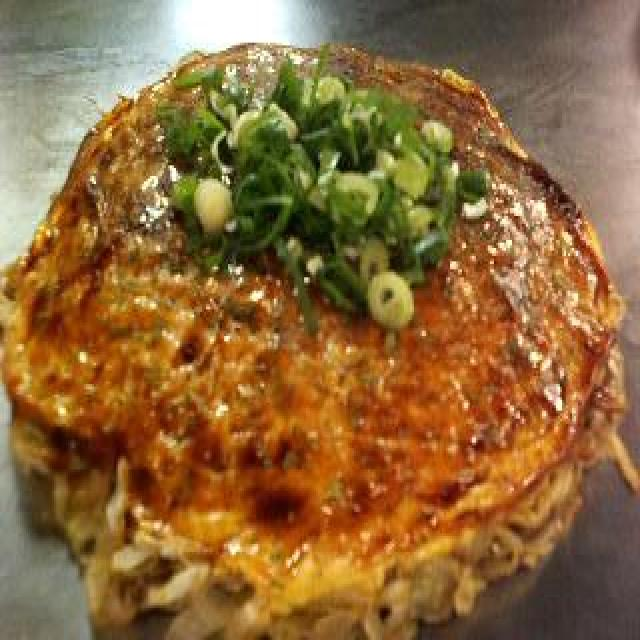蛋糕甜品: (0, 26, 640, 640)
